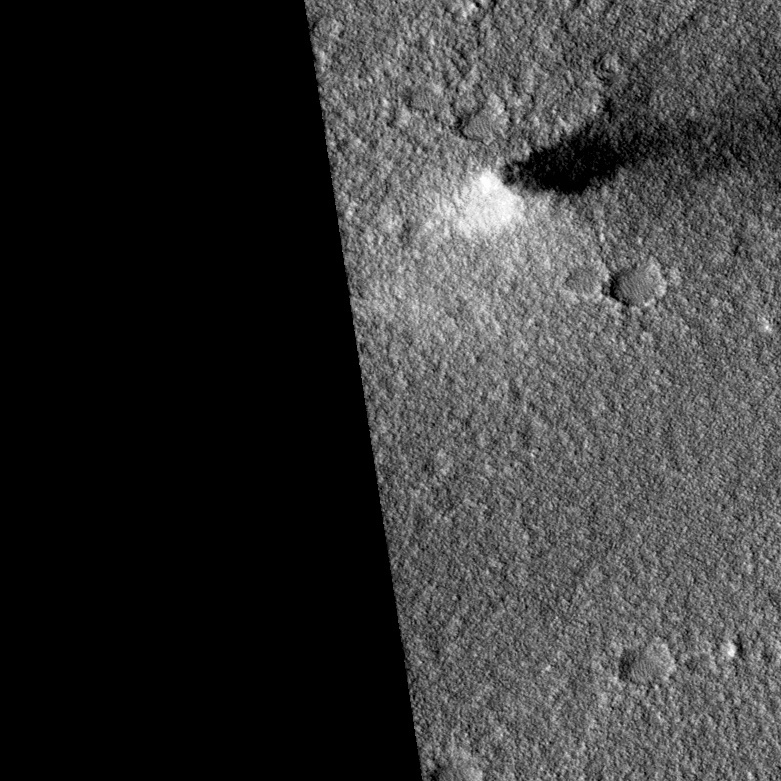dust_devil: (437, 77, 781, 241)
